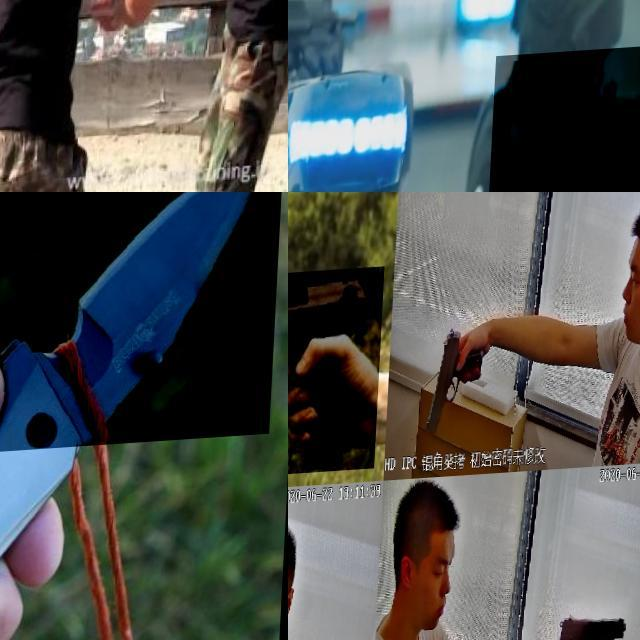-: (0, 192, 284, 459), (172, 0, 236, 53)
gun-knife-thesis - v11 Yolov5 augmented: (288, 270, 404, 484), (490, 46, 640, 192), (423, 328, 487, 440), (553, 615, 632, 640)
